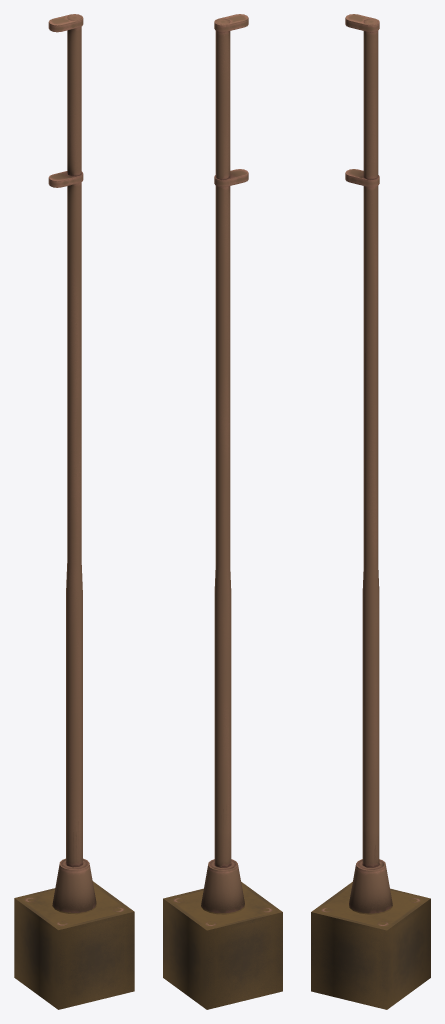
Rendered from flag-stick.fbx.
3 views of the same model, side by side, from view 1: azimuth 30°, elevation 25°; view 2: azimuth 210°, elevation 25°; view 3: azimuth 330°, elevation 25° (orthographic).
Visible parts, largest first — view 1: lp; view 2: lp; view 3: lp.
Boxes of the visible parts, x1,y1,x2,y2 form: lp: (14, 14, 134, 1009); lp: (163, 14, 282, 1009); lp: (311, 14, 430, 1009).
Bounding box in the file's own units: 0.1011 × 1.23 × 0.1011.
